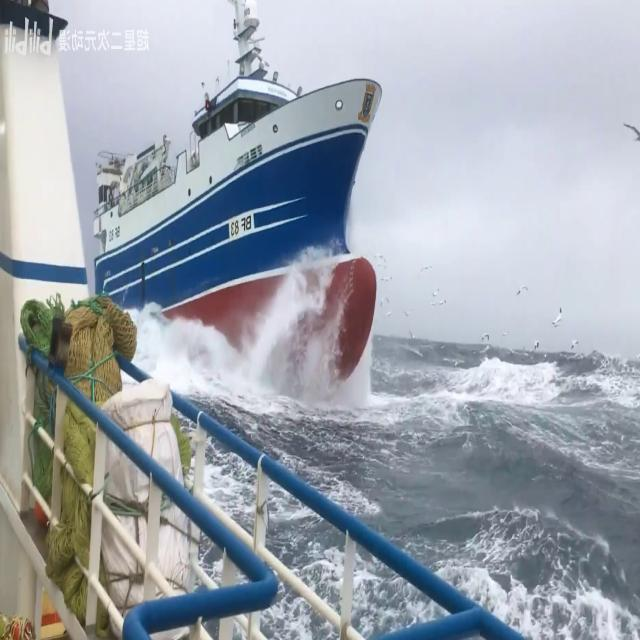navalvessels: (95, 0, 407, 398)
